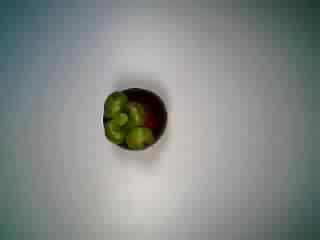mangosteen: (94, 79, 171, 158)
